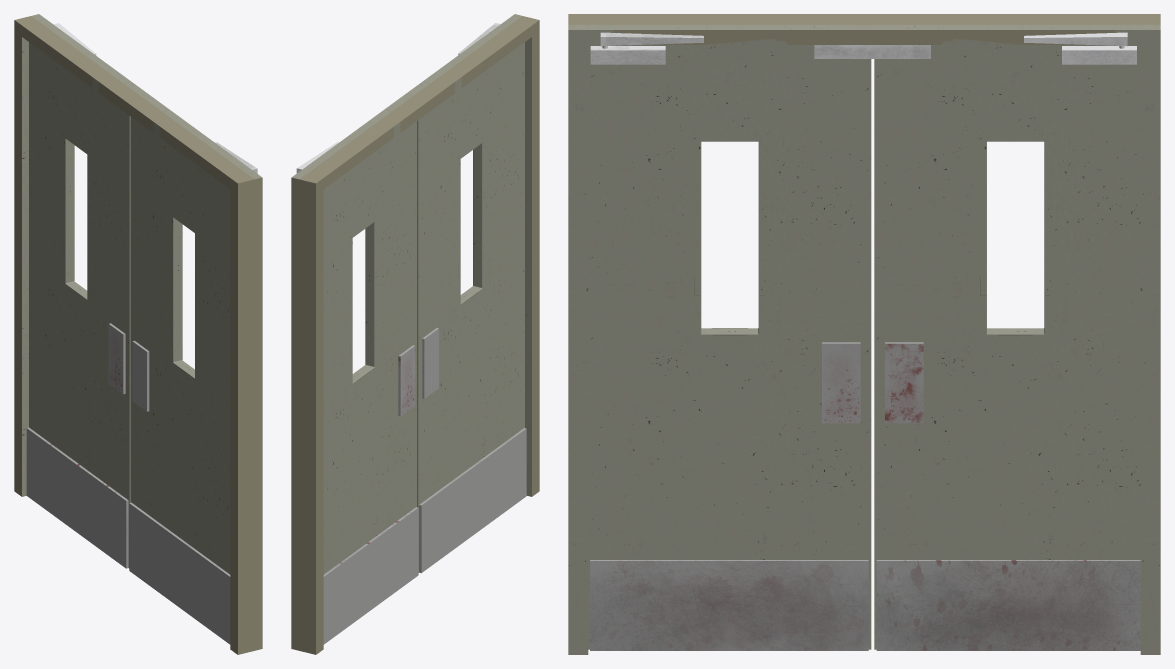
3 renders of one model, left to right at view 1: azimuth 30°, elevation 25°; view 2: azimuth 150°, elevation 25°; view 3: azimuth 270°, elevation 25°, orthographic. The views are drawn at different scales.
Visible parts, largest first — view 1: doors, door_Frame, DoorHandle_MetalParts; view 2: doors, door_Frame, DoorHandle_MetalParts; view 3: doors, DoorHandle_MetalParts, door_Frame, Metal_parts.
Part boxes in pixels (bbox=[...]): doors: bbox=[29, 42, 230, 574]; door_Frame: bbox=[14, 14, 262, 654]; DoorHandle_MetalParts: bbox=[26, 323, 230, 644]; doors: bbox=[323, 42, 524, 574]; door_Frame: bbox=[291, 14, 539, 654]; DoorHandle_MetalParts: bbox=[323, 328, 526, 644]; doors: bbox=[588, 45, 1140, 649]; DoorHandle_MetalParts: bbox=[590, 342, 1140, 650]; door_Frame: bbox=[568, 14, 1160, 654]; Metal_parts: bbox=[590, 32, 1136, 64].
Bounding box in the file's own units: 0.1685 × 2.39 × 2.05.
Materials: 4 (4 with a texture image).
